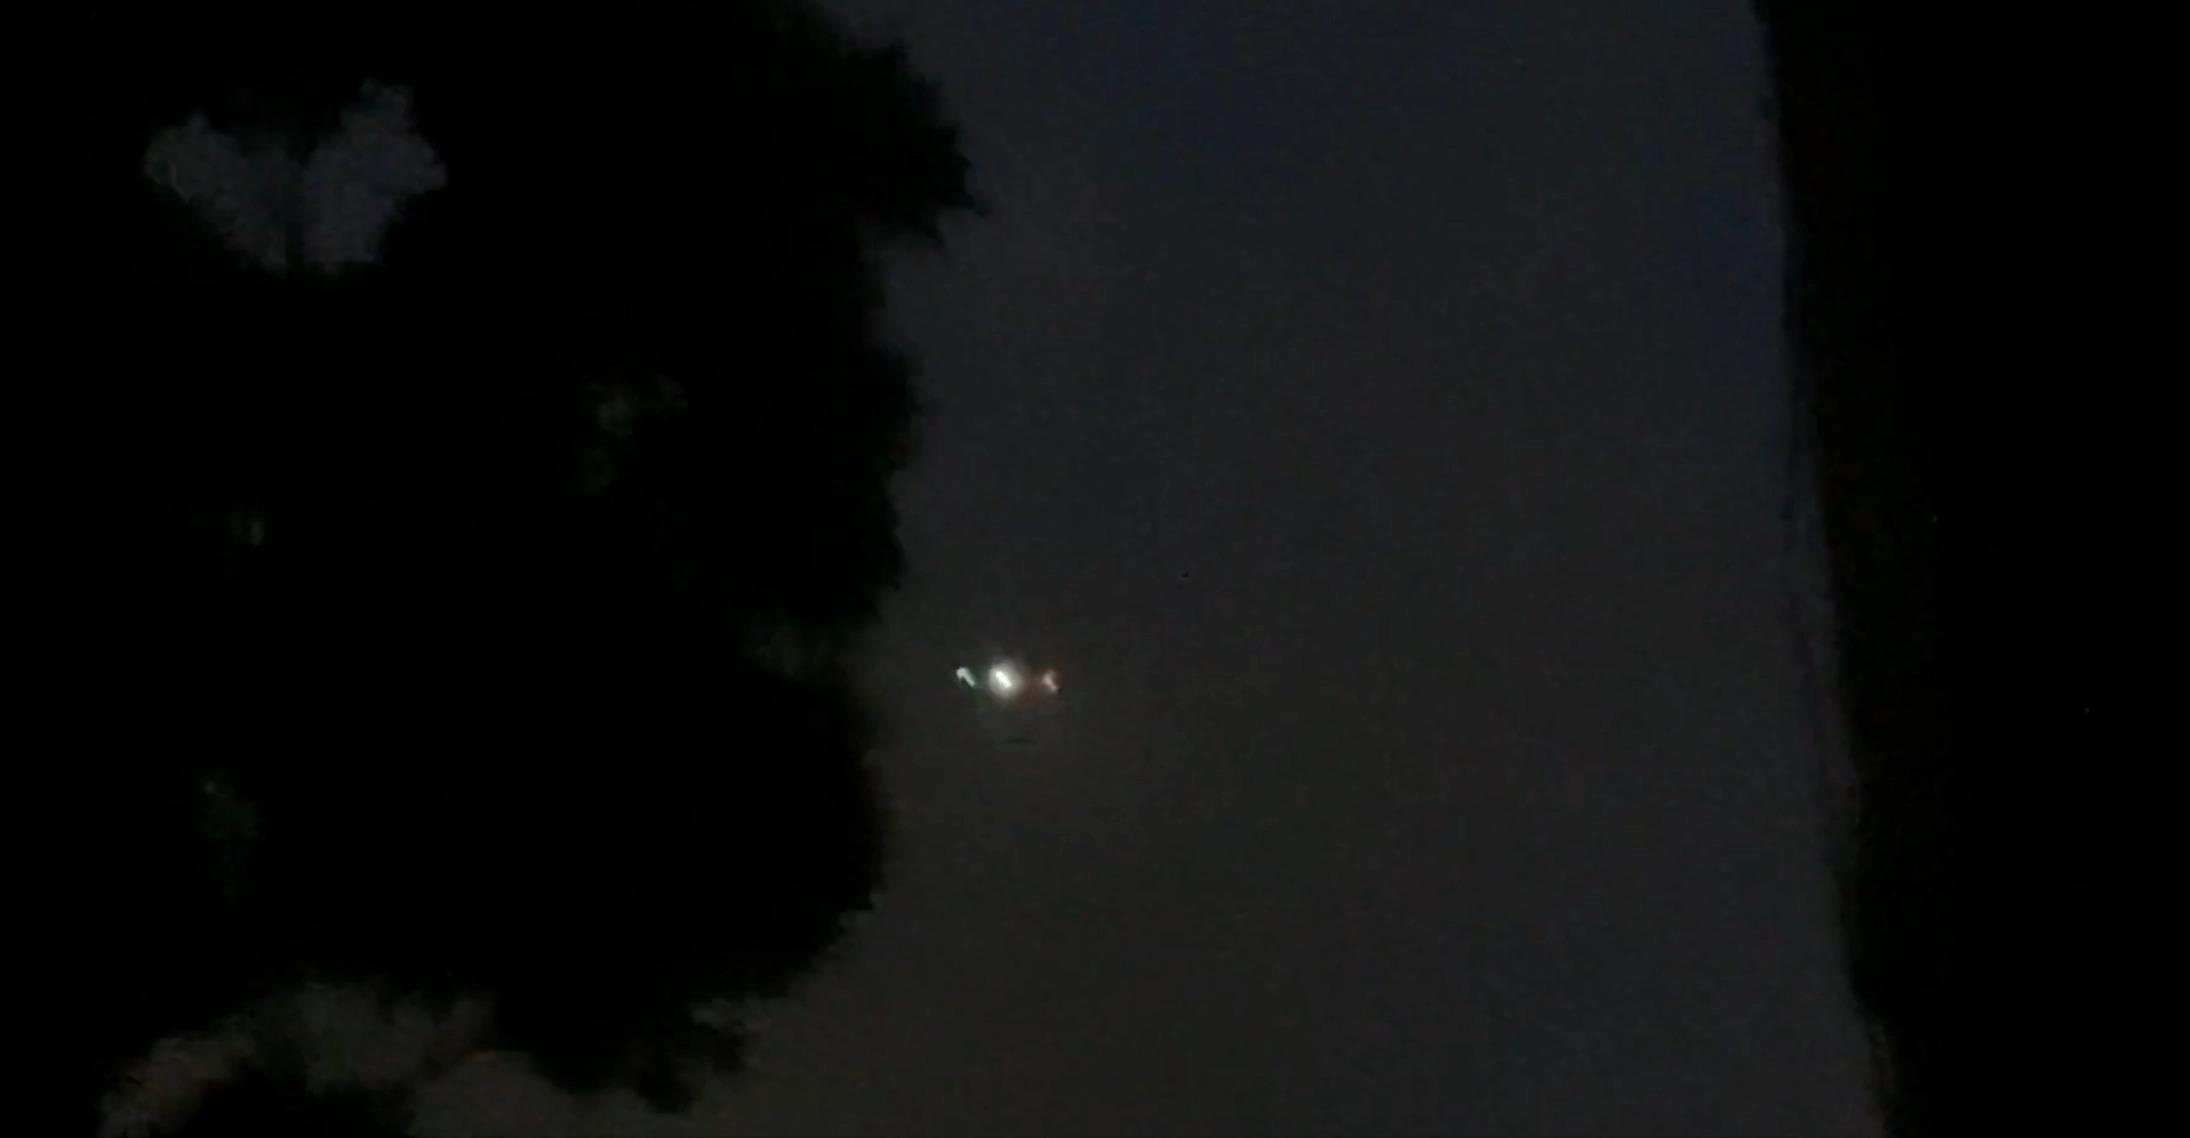Plane: (902, 614, 1138, 737)
